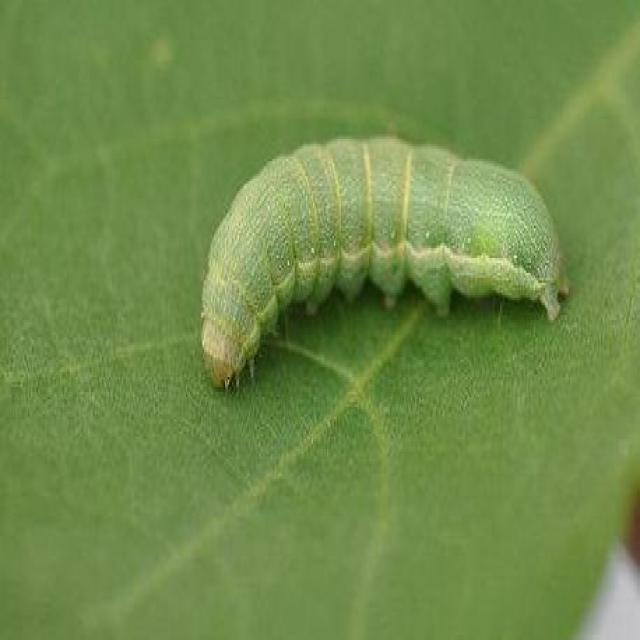BeetArmyWorm-Larva-: (196, 124, 576, 421)
